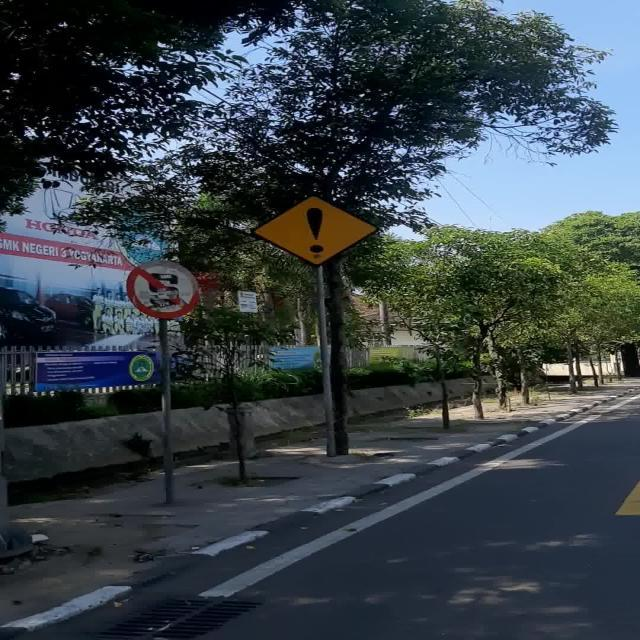Hati-Hati: (250, 195, 380, 266)
